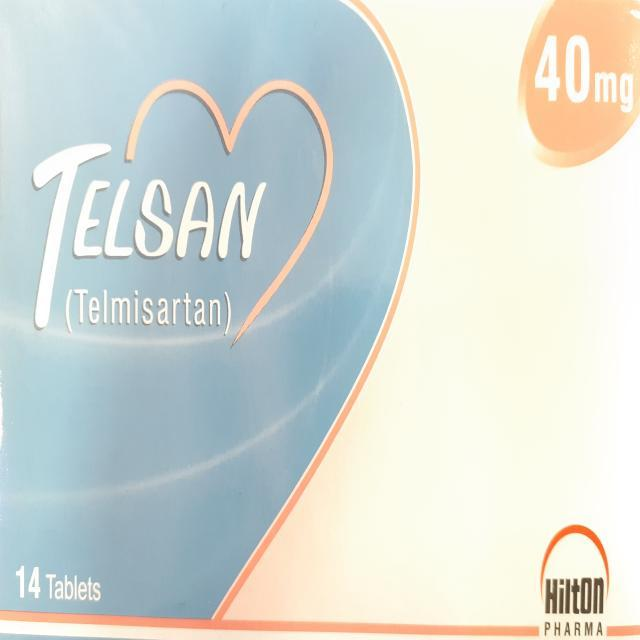drug-name: (26, 144, 257, 336)
